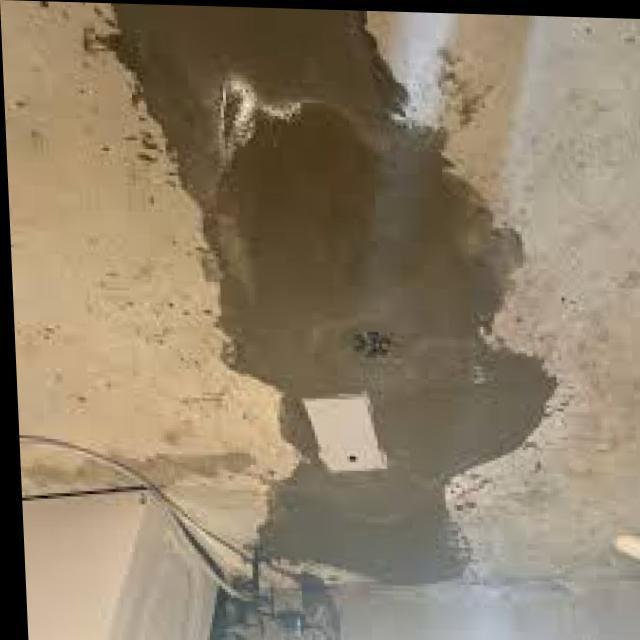water accumulation: (101, 3, 554, 585)
